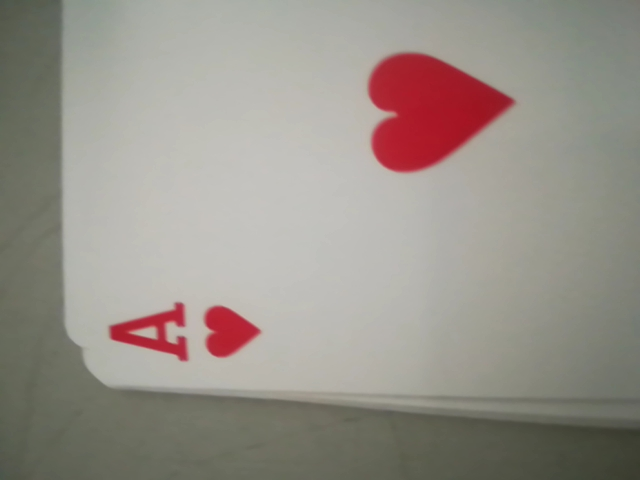hx a: (96, 276, 277, 380)
